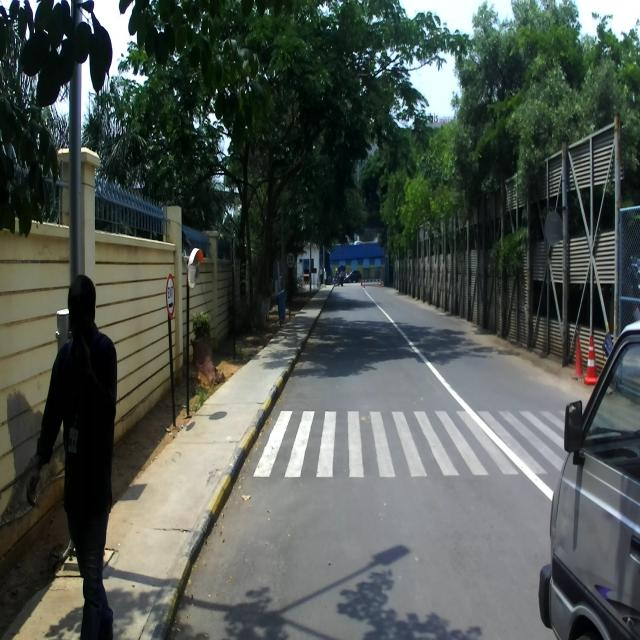car: (536, 319, 639, 636)
